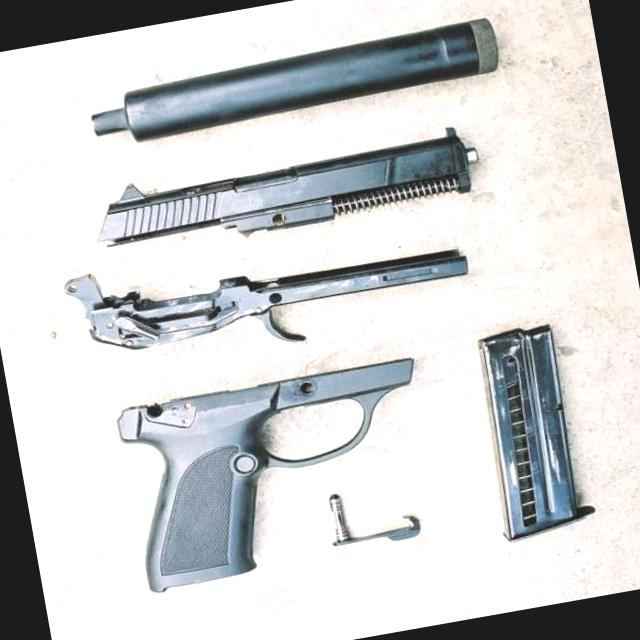handgun: (99, 247, 512, 596)
